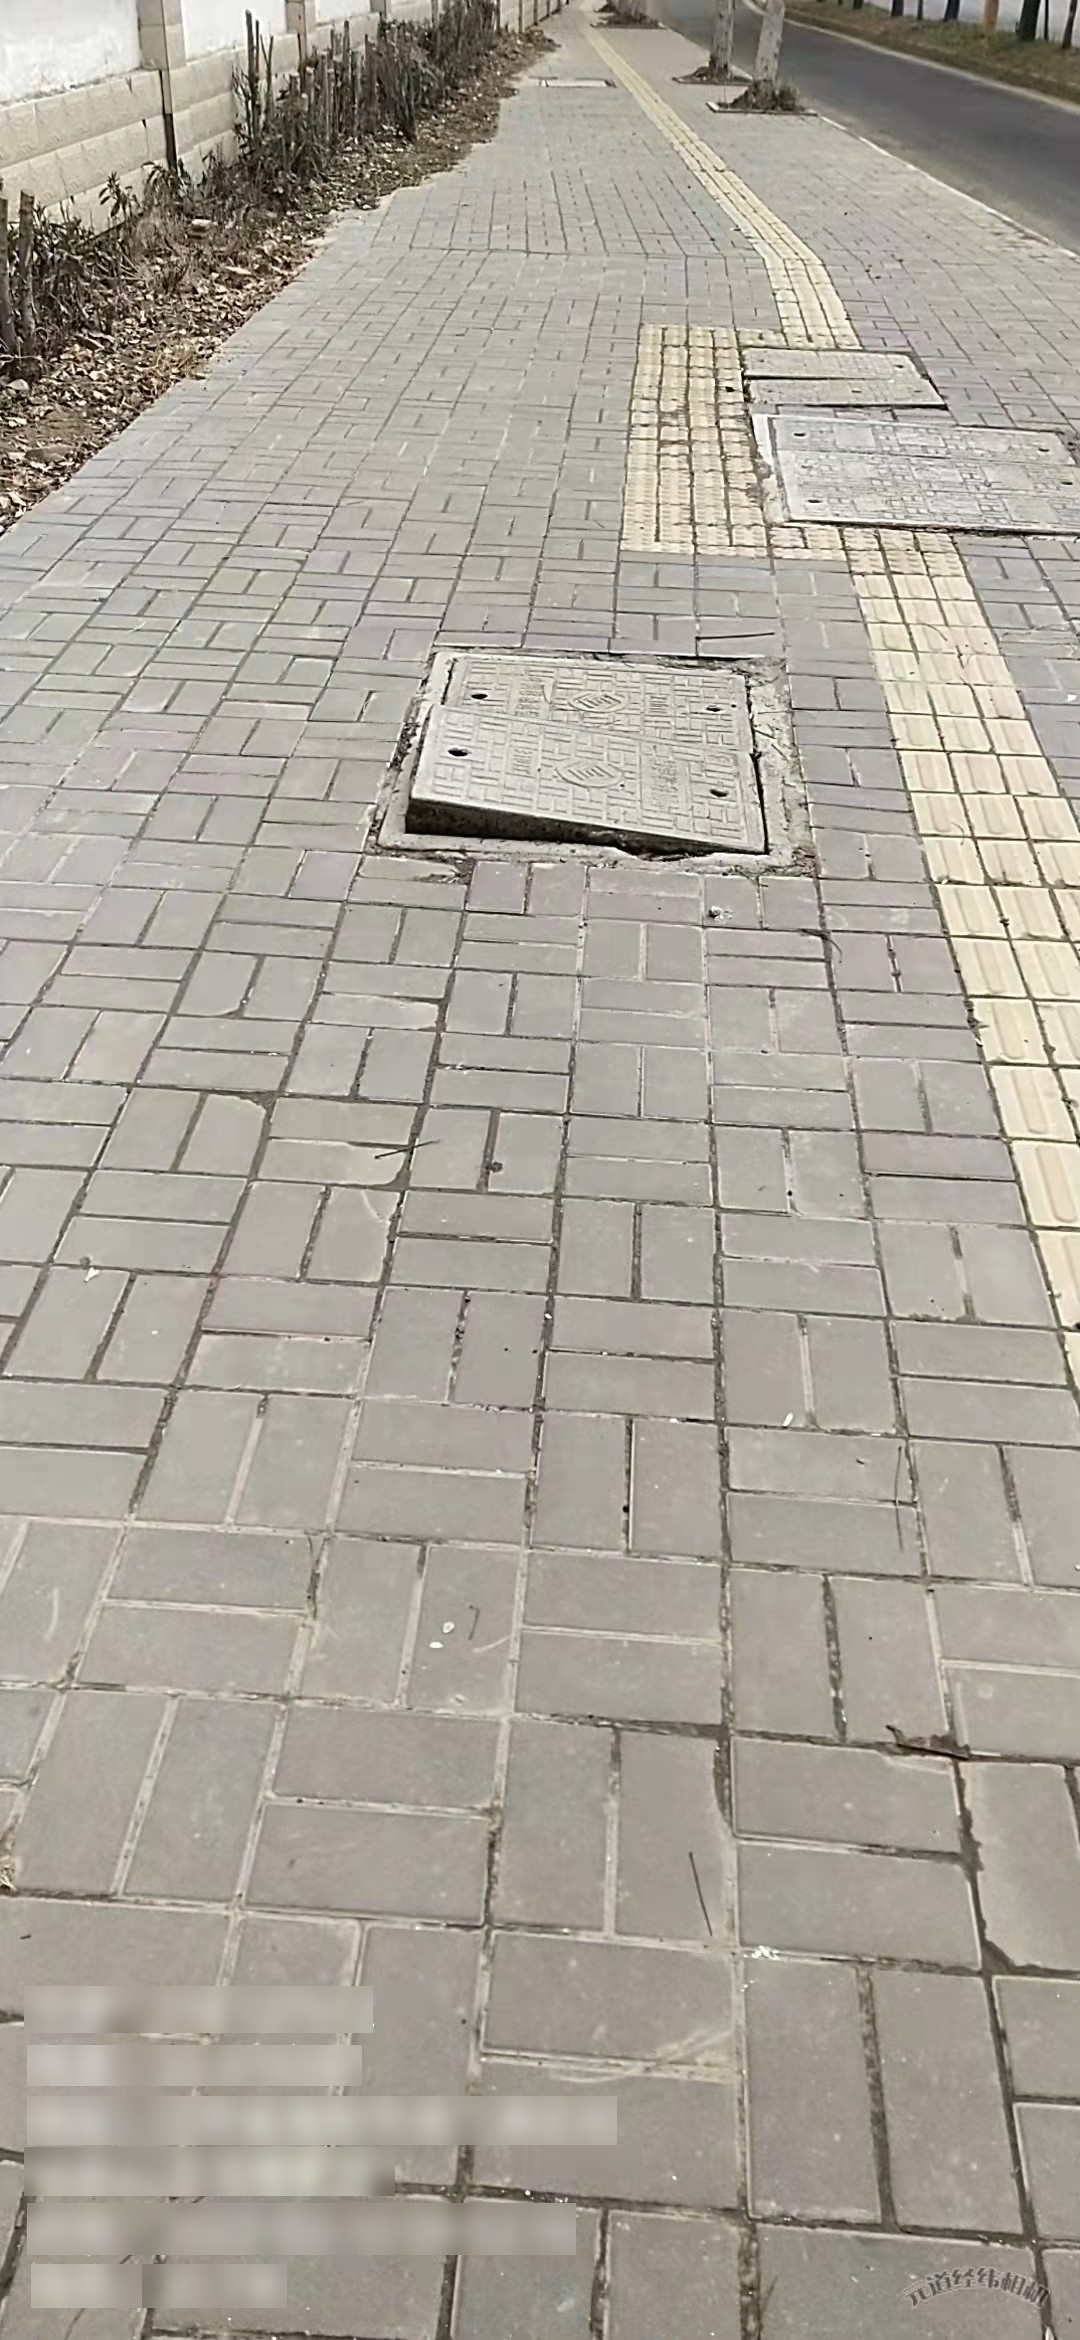good: (746, 397, 1080, 537)
uncovered: (364, 643, 792, 879)
